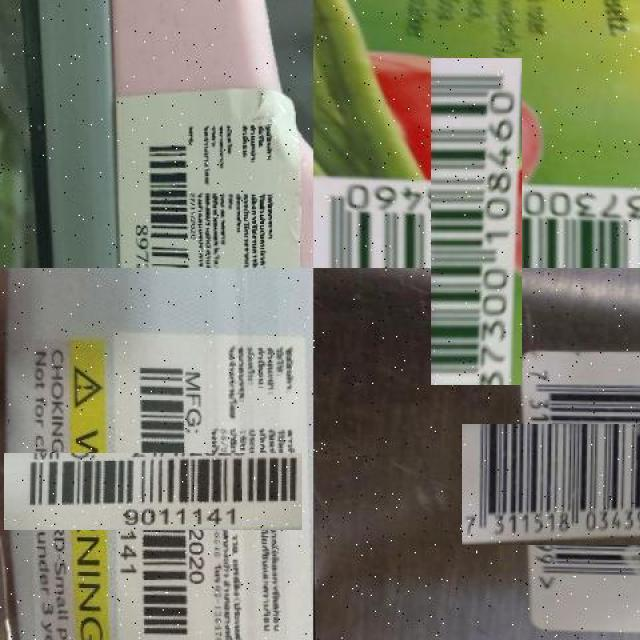Barcode: (372, 117, 581, 327), (59, 397, 247, 585), (490, 395, 640, 573), (131, 131, 193, 268)
